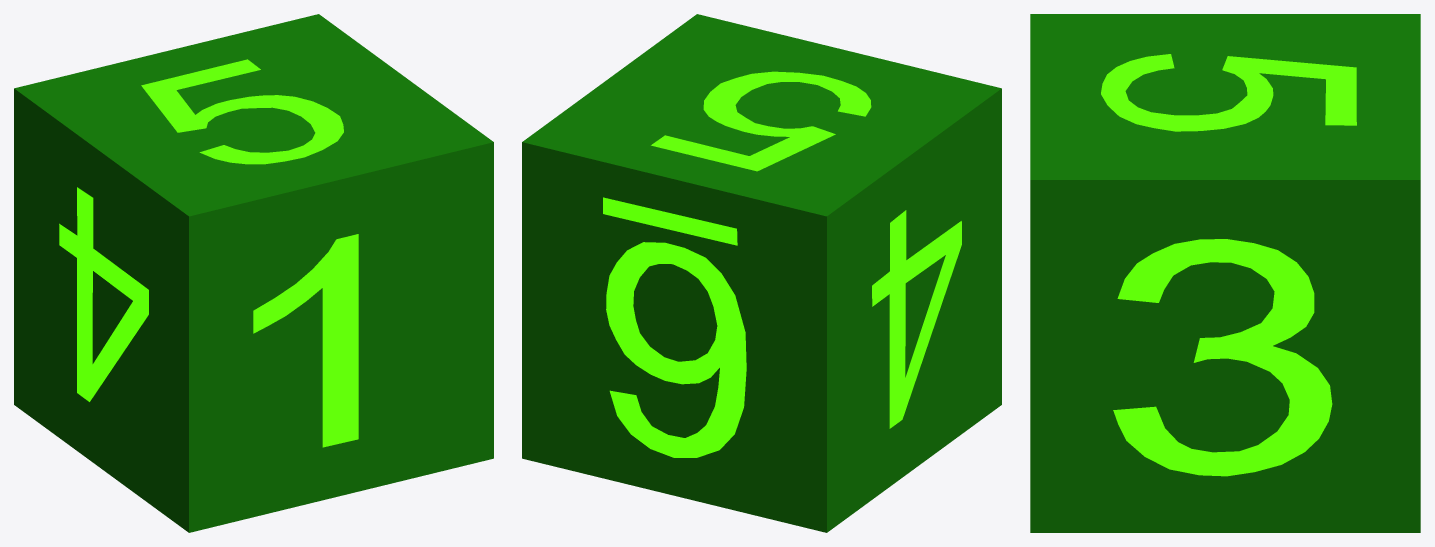
File: dice6.glb
The picture shows the model from 3 angles, left to right: view 1: azimuth 30°, elevation 25°; view 2: azimuth 150°, elevation 25°; view 3: azimuth 270°, elevation 25°; orthographic projection. The views are drawn at different scales.
Visible parts, largest first — view 1: d6; view 2: d6; view 3: d6.
Boxes of the visible parts, box(x1,y1,x2,y2) form: d6: box(14, 14, 493, 532); d6: box(522, 14, 1001, 532); d6: box(1030, 14, 1420, 532).
Bounding box in the file's own units: 0.0199 × 0.0197 × 0.0198.
